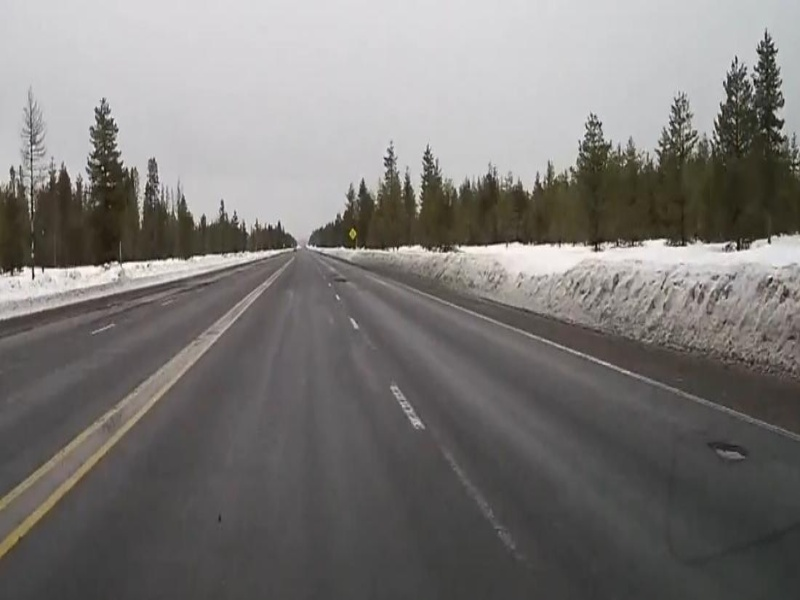pothole: (701, 434, 750, 467)
